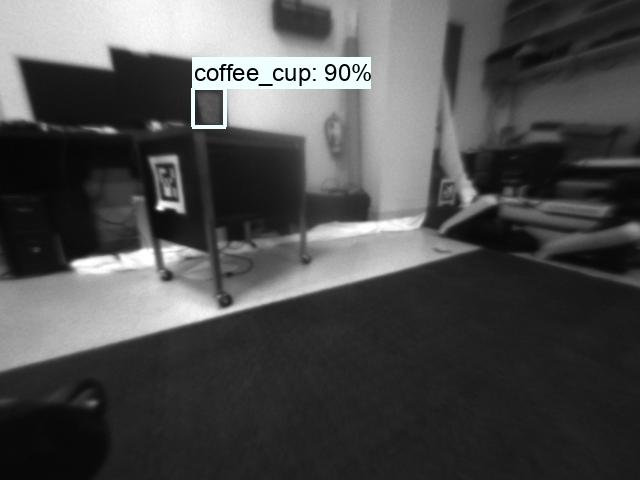coffee_cup: (193, 88, 223, 125)
